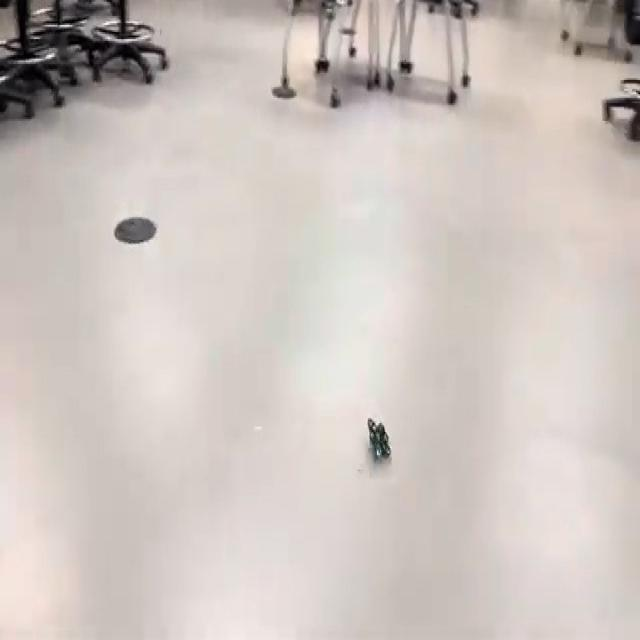drone: (355, 397, 400, 478)
